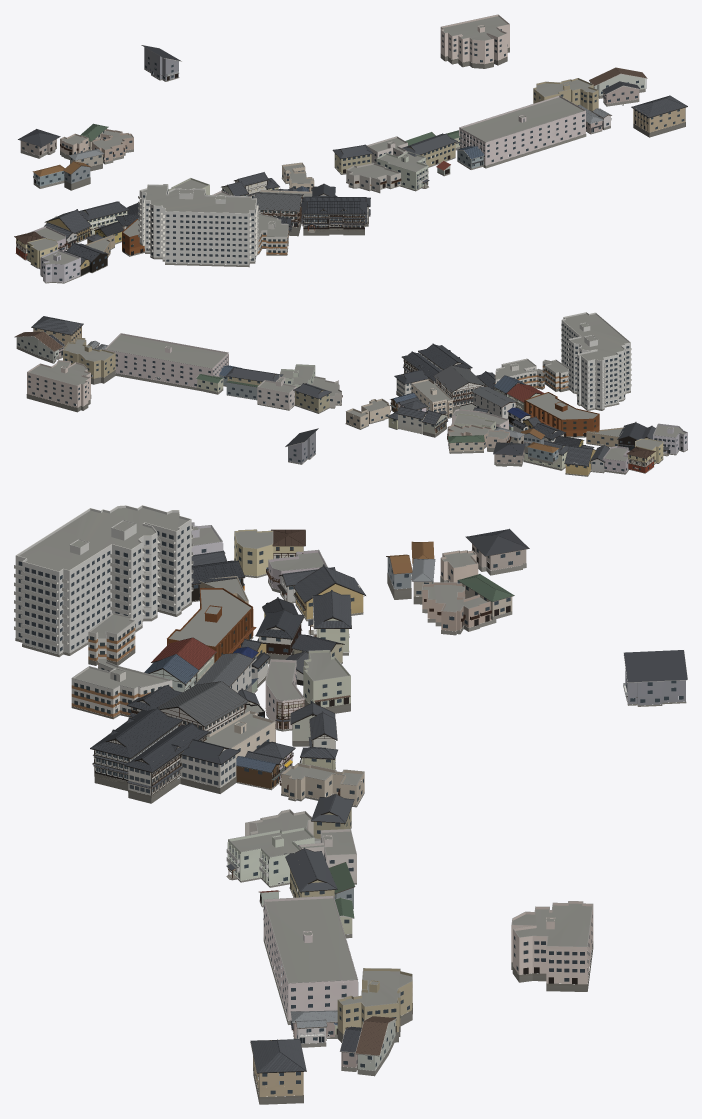
Rendered from buildings_C.glb.
3 views of the same model, one above another, from view 1: azimuth 30°, elevation 25°; view 2: azimuth 150°, elevation 25°; view 3: azimuth 270°, elevation 25° (orthographic). The views are drawn at different scales.
Parts seen in each view (by area): view 1: Bld_C_wall, Bld_C_metal, Bld_C_roof, Bld_C_wood, Bld_C_glass, Bld_C_stone; view 2: Bld_C_wall, Bld_C_metal, Bld_C_roof, Bld_C_wood, Bld_C_glass, Bld_C_stone; view 3: Bld_C_wall, Bld_C_metal, Bld_C_roof, Bld_C_glass, Bld_C_wood, Bld_C_stone.
Part boxes in pixels (<box>): Bld_C_wall: <box>16,14,685,282</box>; Bld_C_metal: <box>14,14,686,278</box>; Bld_C_roof: <box>44,95,687,265</box>; Bld_C_wood: <box>16,45,687,275</box>; Bld_C_glass: <box>17,29,684,280</box>; Bld_C_stone: <box>15,47,685,283</box>; Bld_C_wall: <box>16,312,687,475</box>; Bld_C_metal: <box>15,312,687,470</box>; Bld_C_roof: <box>31,316,669,465</box>; Bld_C_wood: <box>14,324,668,470</box>; Bld_C_glass: <box>17,323,686,471</box>; Bld_C_stone: <box>16,346,687,476</box>; Bld_C_wall: <box>14,505,627,1096</box>; Bld_C_metal: <box>14,505,687,1103</box>; Bld_C_roof: <box>90,550,365,1072</box>; Bld_C_glass: <box>18,526,683,1094</box>; Bld_C_wood: <box>90,537,687,1073</box>; Bld_C_stone: <box>15,558,686,1104</box>.
Bounding box in the file's own units: 392 × 55.73 × 216.
